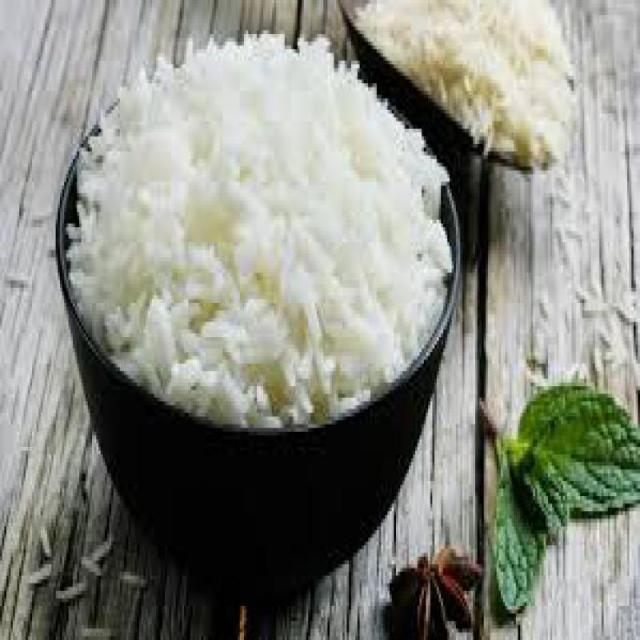nasi_putih: (67, 28, 453, 430)
